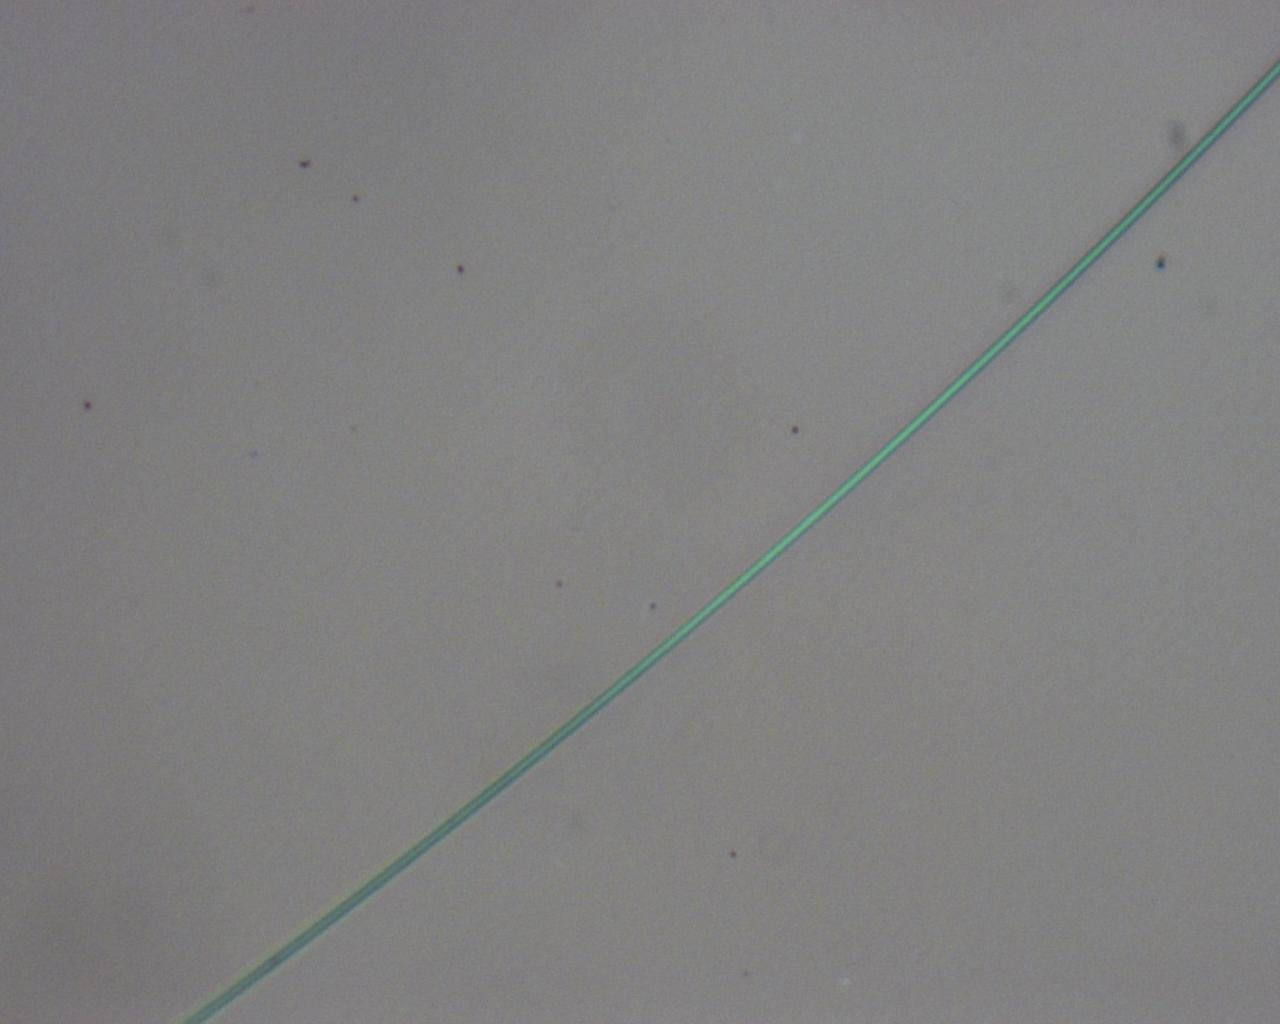fiber: (164, 0, 516, 675), (601, 782, 1198, 1024)
